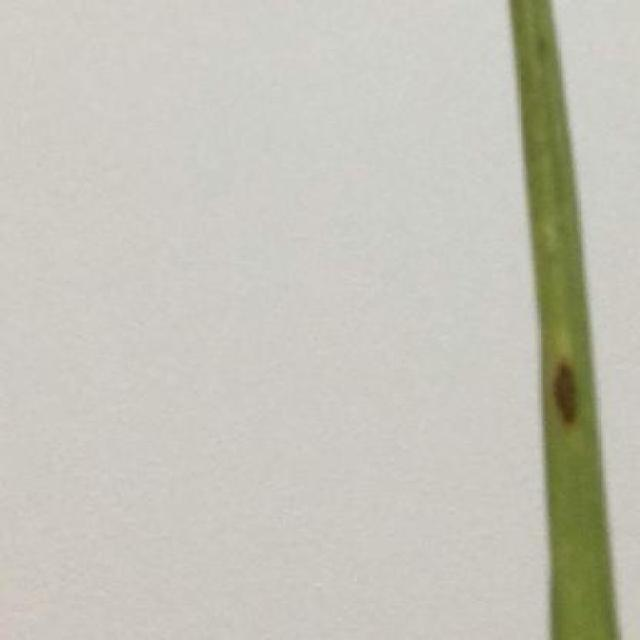Bacterial_Leaf_Blight: (542, 335, 595, 433)
